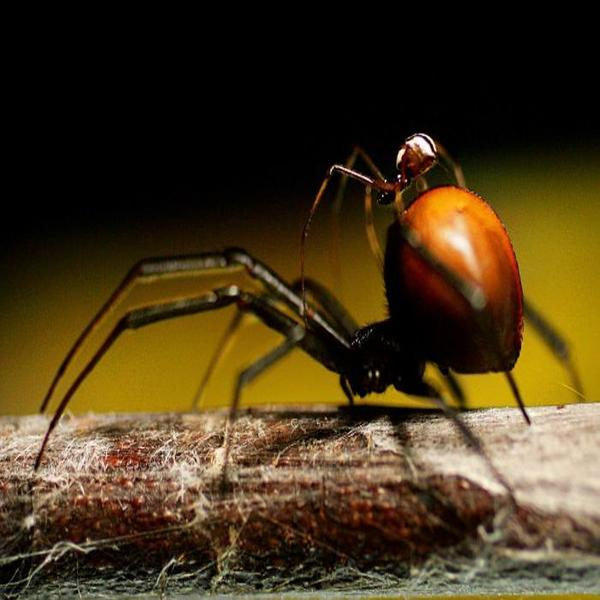Redback Spider: (49, 183, 544, 539)
